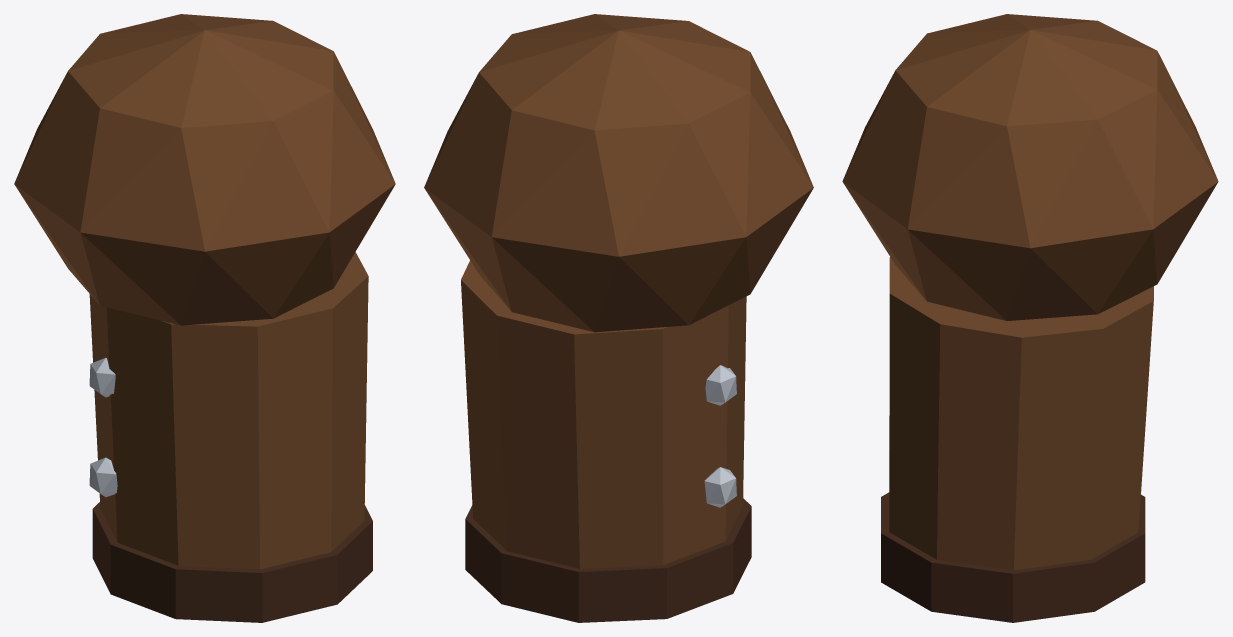
The model's file is gear_studded_body_arm_r.glb.
3 renders of one model, left to right at view 1: azimuth 30°, elevation 25°; view 2: azimuth 150°, elevation 25°; view 3: azimuth 270°, elevation 25°, orthographic. The views are drawn at different scales.
Visible parts, largest first — view 1: gear_studded_body_arm_r; view 2: gear_studded_body_arm_r; view 3: gear_studded_body_arm_r.
Part boxes in pixels (x1,y1,x2,y2): gear_studded_body_arm_r: (14,14,395,622); gear_studded_body_arm_r: (424,14,813,622); gear_studded_body_arm_r: (842,14,1218,622).
Bounding box in the file's own units: 0.1707 × 0.267 × 0.1733.
